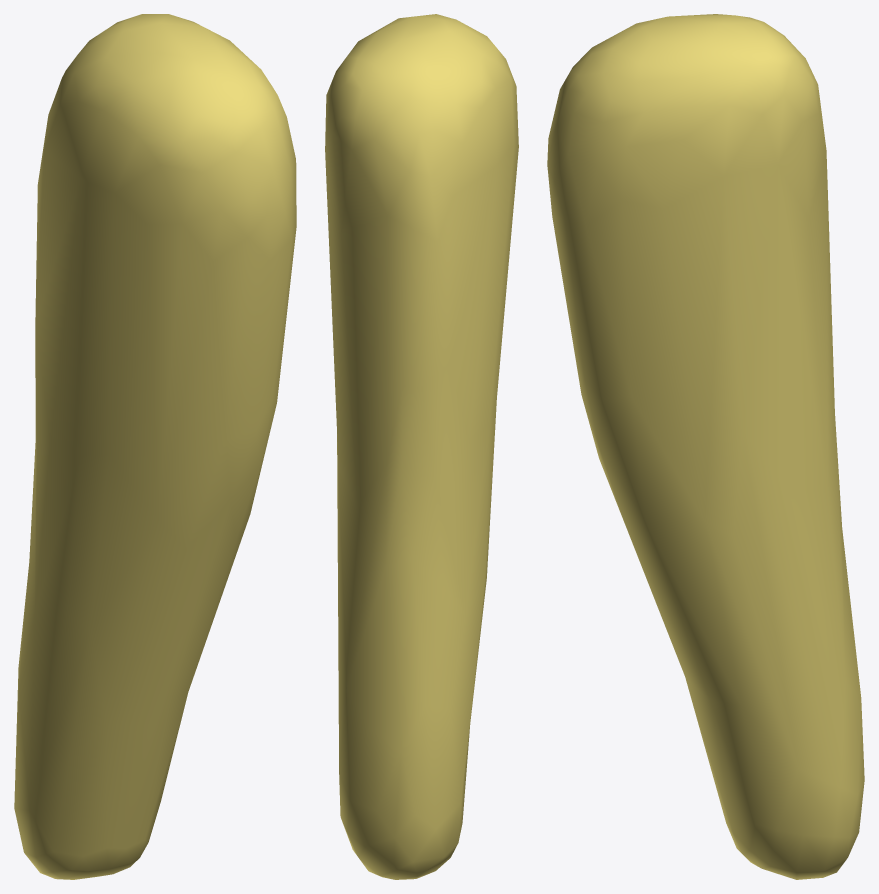
File: lacrimal-sac-r.glb
3 views of the same model, side by side, from view 1: azimuth 30°, elevation 25°; view 2: azimuth 150°, elevation 25°; view 3: azimuth 270°, elevation 25° (orthographic). The views are drawn at different scales.
Visible parts, largest first — view 1: Lacrimal sac.r; view 2: Lacrimal sac.r; view 3: Lacrimal sac.r.
Part boxes in pixels (<box>): Lacrimal sac.r: <box>14,14,296,879</box>; Lacrimal sac.r: <box>325,14,518,879</box>; Lacrimal sac.r: <box>547,14,864,879</box>.
Bounding box in the file's own units: 0.004 × 0.0184 × 0.0061.
